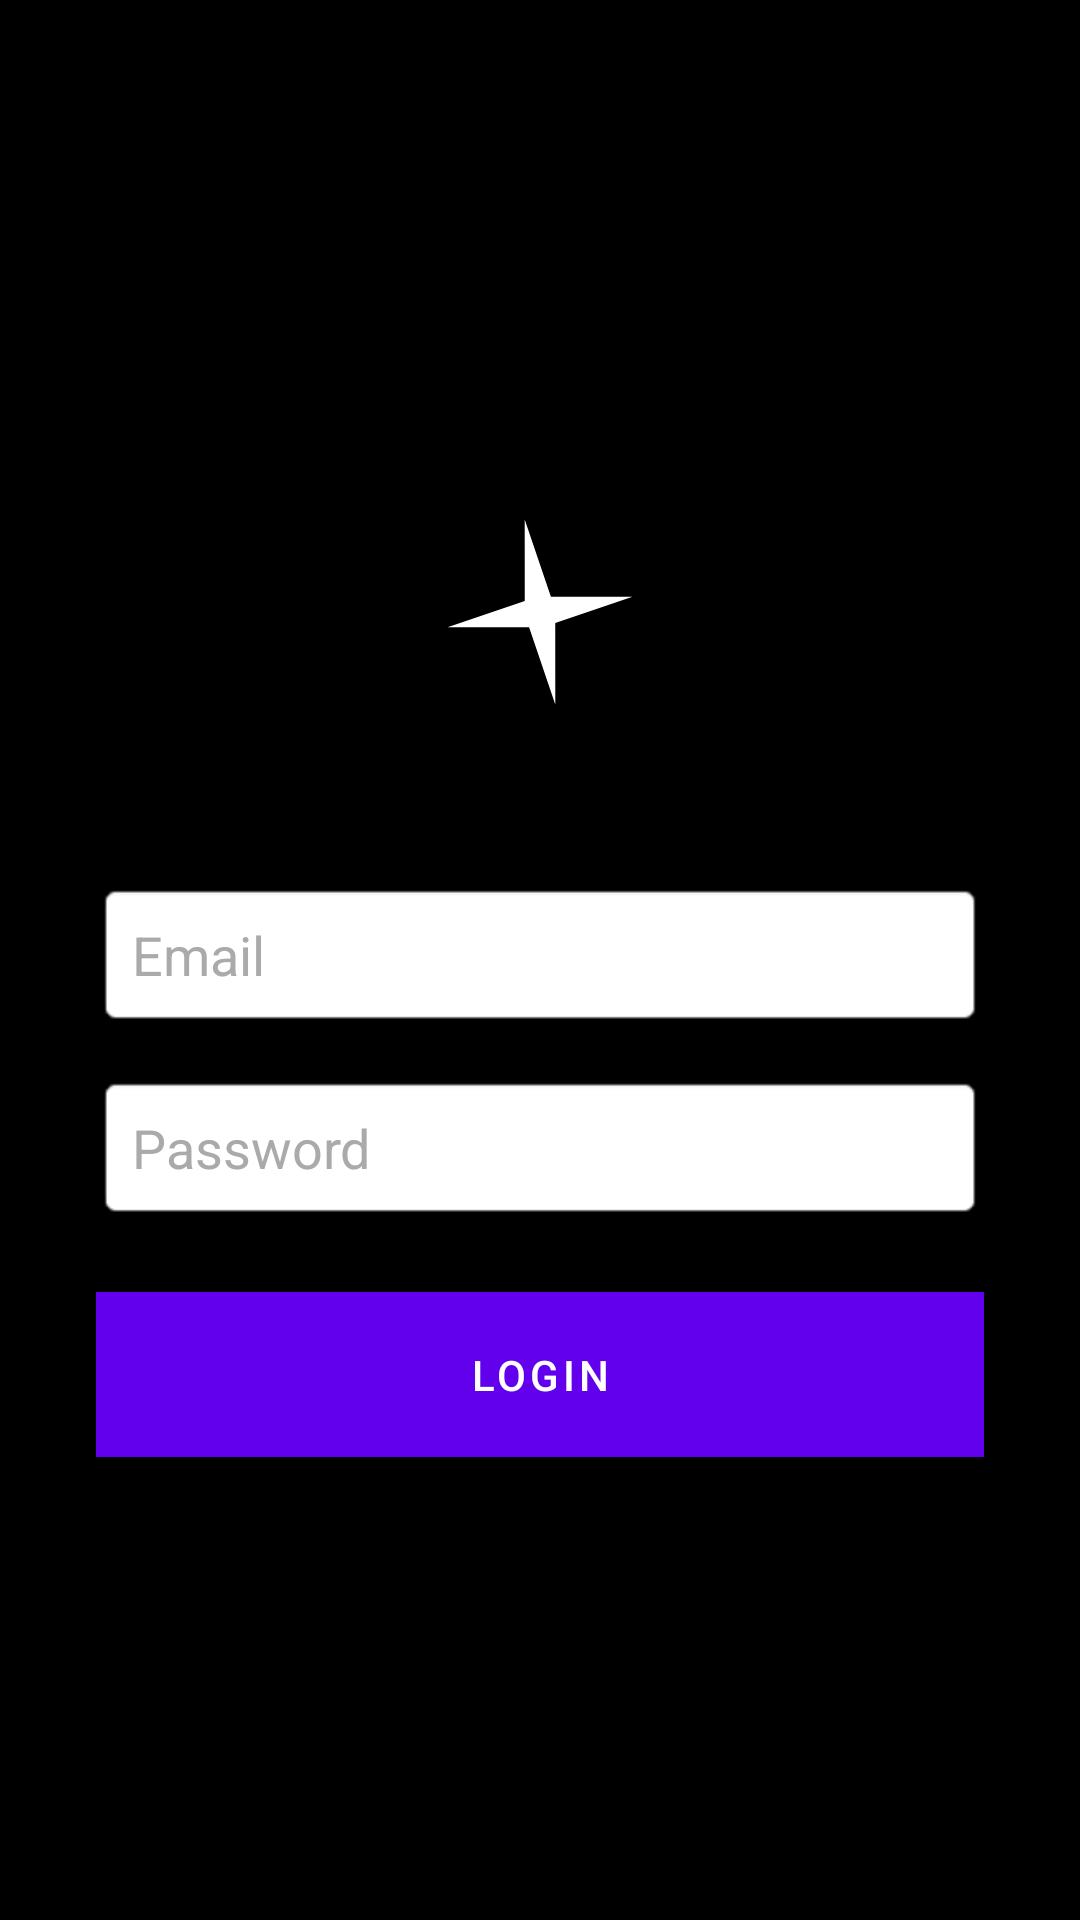

Icons on this 1080*1920 Android screen, each with the point to tap as [x,y]:
northstar: [540,612]
